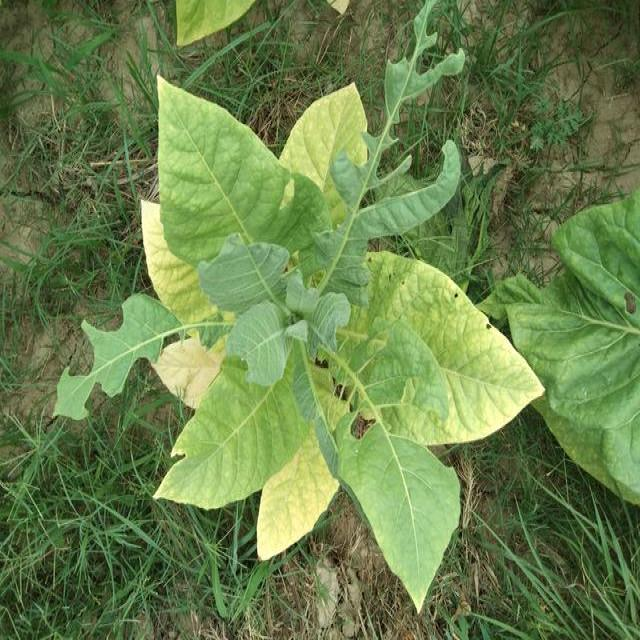crop: (136, 62, 544, 613)
